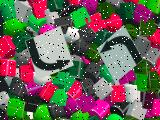Left: (97, 25, 143, 83), (25, 26, 74, 80)
